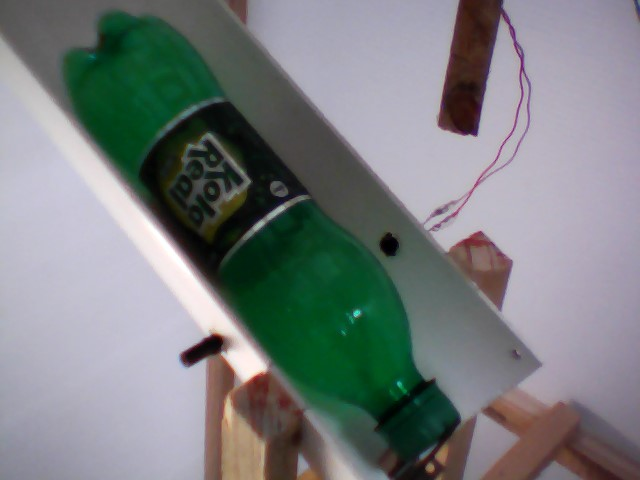plastico: (60, 7, 484, 480)
